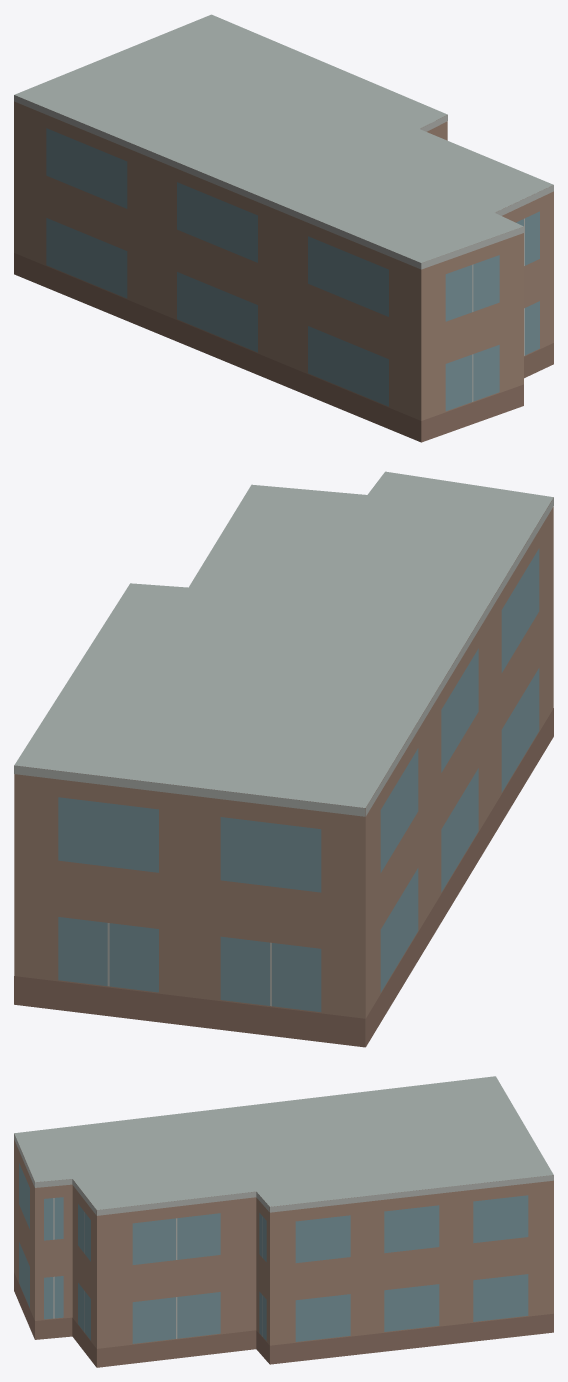
The model's file is survey-upis-32760106.glb.
The picture shows the model from 3 angles, top to bottom: view 1: azimuth 30°, elevation 25°; view 2: azimuth 150°, elevation 25°; view 3: azimuth 270°, elevation 25°; orthographic projection. The views are drawn at different scales.
Visible parts, largest first — view 1: survey-upis-32760106.tmp; view 2: survey-upis-32760106.tmp; view 3: survey-upis-32760106.tmp.
Boxes of the visible parts, left/top/right/bottom form: survey-upis-32760106.tmp: left=14, top=14, right=553, bottom=442; survey-upis-32760106.tmp: left=14, top=471, right=553, bottom=1047; survey-upis-32760106.tmp: left=14, top=1076, right=553, bottom=1367.
Bounding box in the file's own units: 12.23 × 6.7 × 20.81.
